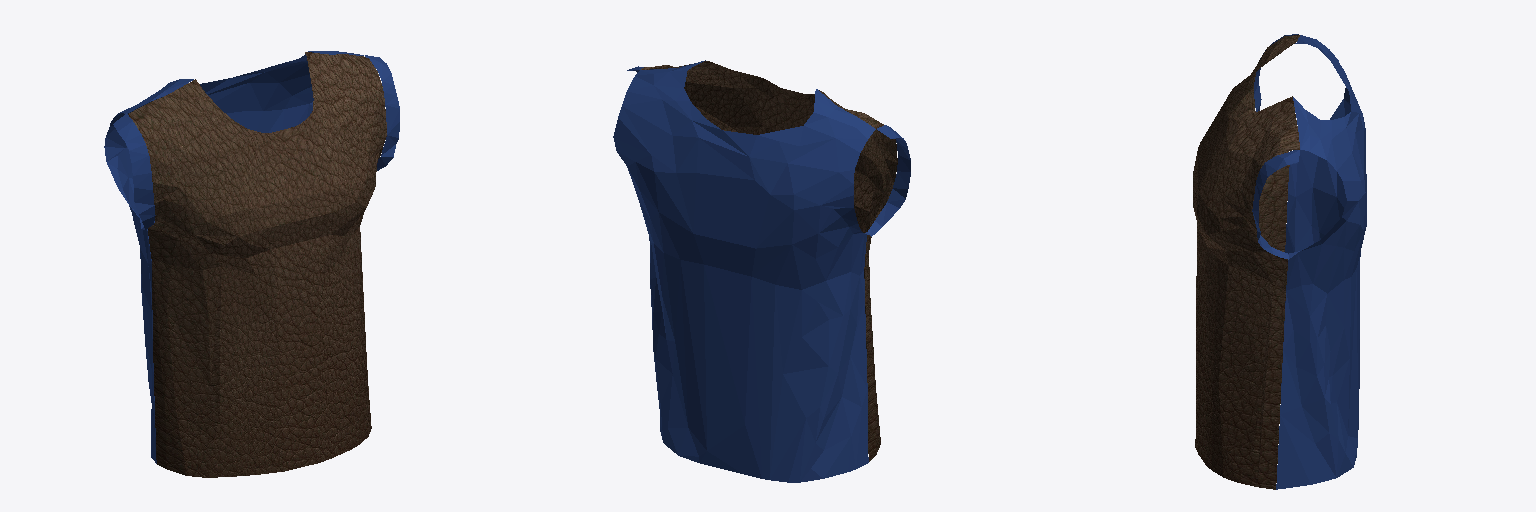
3 views of the same model, side by side, from view 1: azimuth 30°, elevation 25°; view 2: azimuth 150°, elevation 25°; view 3: azimuth 270°, elevation 25° (orthographic).
Parts seen in each view (by area): view 1: T_shirt.004; view 2: T_shirt.004; view 3: T_shirt.004.
Part boxes in pixels (left/top/right/bottom): T_shirt.004: left=104, top=51, right=399, bottom=477; T_shirt.004: left=613, top=60, right=910, bottom=482; T_shirt.004: left=1193, top=34, right=1366, bottom=489.
Bounding box in the file's own units: 0.2935 × 0.3892 × 0.1639.
Materials: 2 (1 with a texture image).